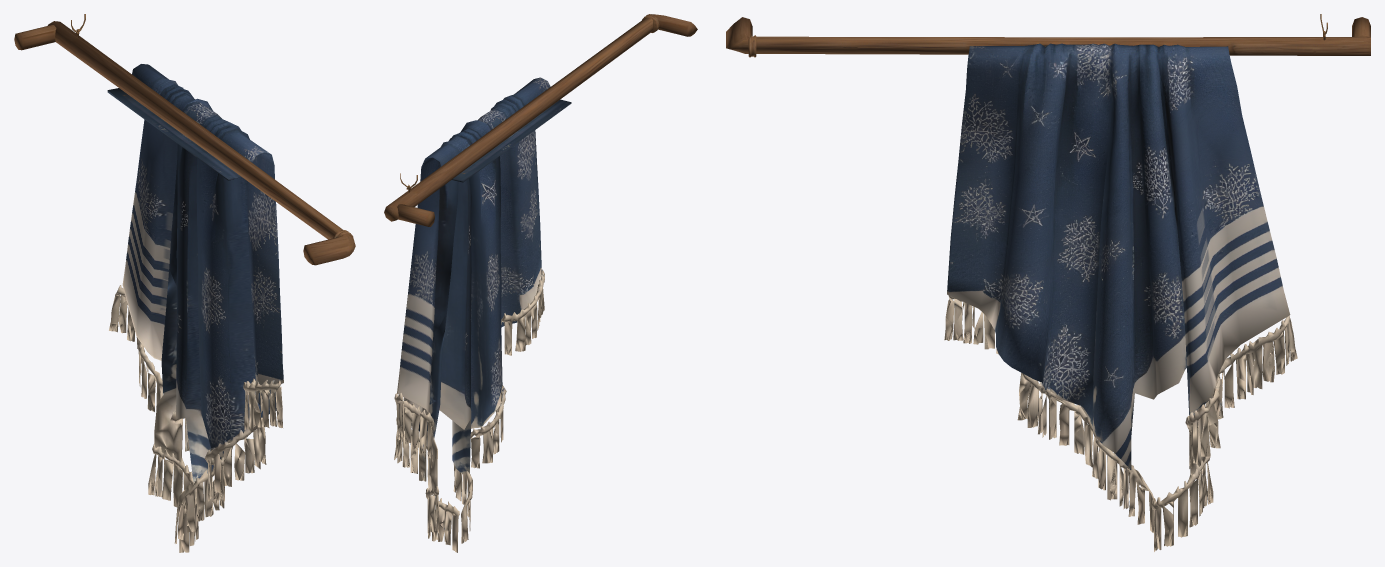
The model's file is block-printed-runner.glb.
3 renders of one model, left to right at view 1: azimuth 30°, elevation 25°; view 2: azimuth 150°, elevation 25°; view 3: azimuth 270°, elevation 25°, orthographic. The views are drawn at different scales.
Parts seen in each view (by area): view 1: tripo_node_4d070797-48c3-4479-8a70-0055fe0ba5c4; view 2: tripo_node_4d070797-48c3-4479-8a70-0055fe0ba5c4; view 3: tripo_node_4d070797-48c3-4479-8a70-0055fe0ba5c4.
Part boxes in pixels (<box>): tripo_node_4d070797-48c3-4479-8a70-0055fe0ba5c4: <box>14,14,355,552</box>; tripo_node_4d070797-48c3-4479-8a70-0055fe0ba5c4: <box>384,14,697,552</box>; tripo_node_4d070797-48c3-4479-8a70-0055fe0ba5c4: <box>726,14,1370,551</box>.
Size of the model in its own units: 0.2129 by 0.8848 by 0.998.
1 material, 1 textured.
